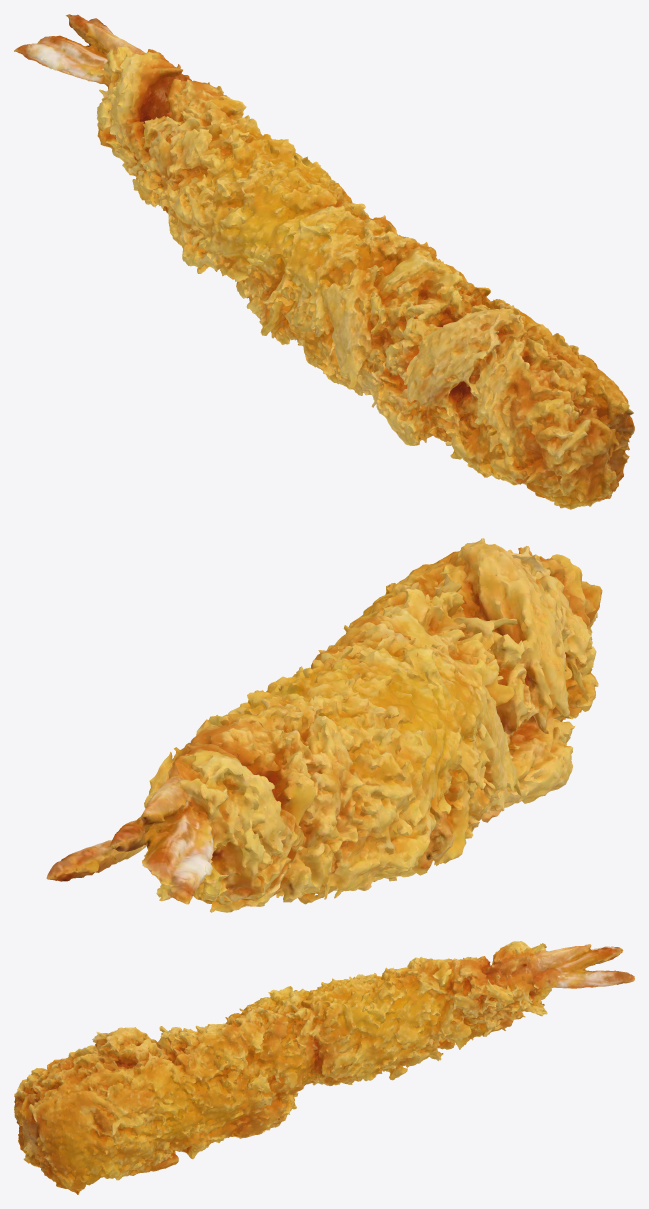
File: fried_shrimp_3d_scan-transformed.glb
3 renders of one model, top to bottom at view 1: azimuth 30°, elevation 25°; view 2: azimuth 150°, elevation 25°; view 3: azimuth 270°, elevation 25°, orthographic. The views are drawn at different scales.
Visible parts, largest first — view 1: Object_2; view 2: Object_2; view 3: Object_2.
Part boxes in pixels (<box>): Object_2: <box>14,14,634,509</box>; Object_2: <box>46,538,602,912</box>; Object_2: <box>14,941,634,1194</box>.
Size of the model in its own units: 0.1637 by 0.1739 by 0.5077.
Materials: 1 (1 with a texture image).
